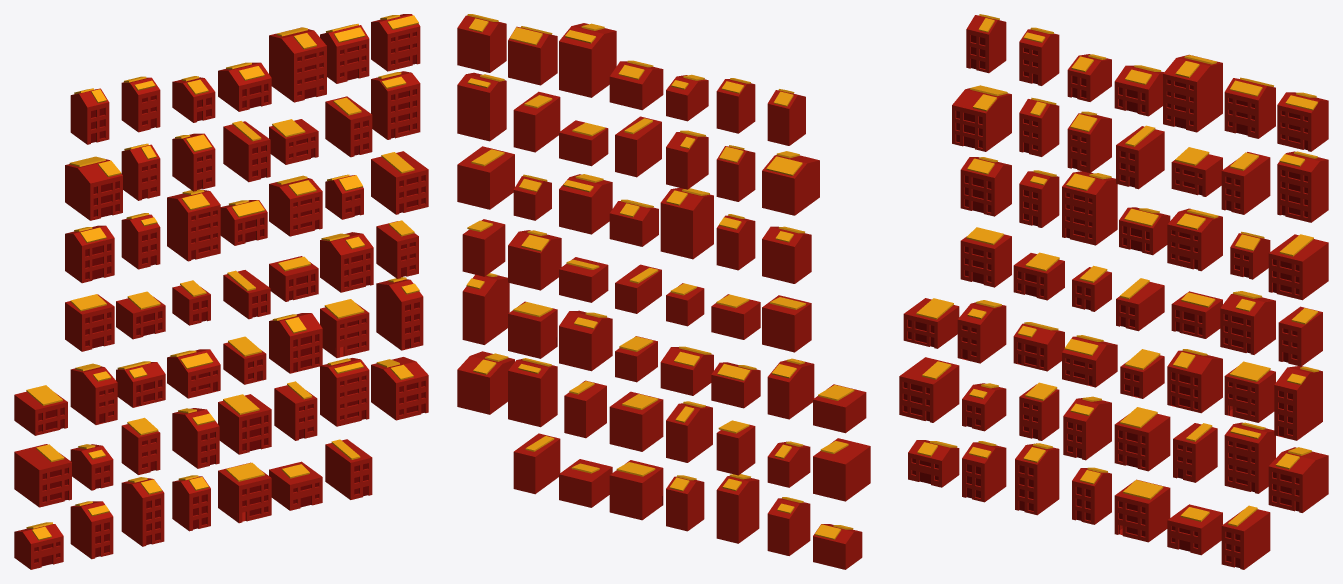
Rendered from MevcutBina.gltf.
3 views of the same model, side by side, from view 1: azimuth 30°, elevation 25°; view 2: azimuth 150°, elevation 25°; view 3: azimuth 330°, elevation 25° (orthographic). The views are drawn at different scales.
Visible parts, largest first — view 1: Building_049.010, Building_037.010, Building_067.010, Building_061.010, Building_068.010, Building_020.009, Building_064.010, Building_065.010, Building_022.010, Building_059.010, Building_053.010, Building_051.010 (+39 smaller); view 2: Building_049.010, Building_037.010, Building_064.010, Building_061.010, Building_020.009, Building_067.010, Building_065.010, Building_053.010, Building_022.010, Building_068.010, Building_034.010, Building_051.010 (+39 smaller); view 3: Building_049.010, Building_037.010, Building_067.010, Building_068.010, Building_020.009, Building_064.010, Building_065.010, Building_061.010, Building_022.010, Building_059.010, Building_053.010, Building_051.010 (+39 smaller).
Boxes of the visible parts, x1=… form: Building_049.010: x1=269, y1=27, x2=326, y2=102; Building_037.010: x1=167, y1=189, x2=220, y2=261; Building_067.010: x1=376, y1=279, x2=423, y2=350; Building_061.010: x1=320, y1=358, x2=369, y2=426; Building_068.010: x1=371, y1=357, x2=428, y2=420; Building_020.009: x1=14, y1=444, x2=71, y2=507; Building_064.010: x1=371, y1=71, x2=420, y2=139; Building_065.010: x1=371, y1=151, x2=428, y2=214; Building_022.010: x1=65, y1=159, x2=122, y2=220; Building_059.010: x1=320, y1=232, x2=373, y2=292; Building_053.010: x1=269, y1=313, x2=322, y2=373; Building_051.010: x1=269, y1=178, x2=322, y2=236; Building_049.010: x1=559, y1=23, x2=616, y2=97; Building_037.010: x1=660, y1=188, x2=713, y2=259; Building_064.010: x1=457, y1=72, x2=506, y2=141; Building_061.010: x1=508, y1=359, x2=557, y2=427; Building_020.009: x1=813, y1=438, x2=870, y2=501; Building_067.010: x1=462, y1=274, x2=509, y2=344; Building_065.010: x1=457, y1=146, x2=514, y2=209; Building_053.010: x1=559, y1=310, x2=612, y2=371; Building_022.010: x1=762, y1=155, x2=819, y2=215; Building_068.010: x1=457, y1=351, x2=514, y2=414; Building_034.010: x1=716, y1=476, x2=759, y2=543; Building_051.010: x1=559, y1=174, x2=612, y2=234; Building_049.010: x1=1163, y1=54, x2=1222, y2=132; Building_037.010: x1=1062, y1=171, x2=1117, y2=245; Building_067.010: x1=1274, y1=366, x2=1322, y2=440; Building_068.010: x1=1268, y1=447, x2=1328, y2=512; Building_020.009: x1=899, y1=357, x2=959, y2=422; Building_064.010: x1=1277, y1=151, x2=1328, y2=222; Building_065.010: x1=1268, y1=234, x2=1328, y2=300; Building_061.010: x1=1224, y1=422, x2=1275, y2=493; Building_022.010: x1=952, y1=88, x2=1011, y2=151; Building_059.010: x1=1220, y1=293, x2=1275, y2=354; Building_053.010: x1=1167, y1=350, x2=1222, y2=413; Building_051.010: x1=1167, y1=208, x2=1222, y2=271.
Bounding box in the file's own units: 0.5815 × 0.6666 × 0.0652.
